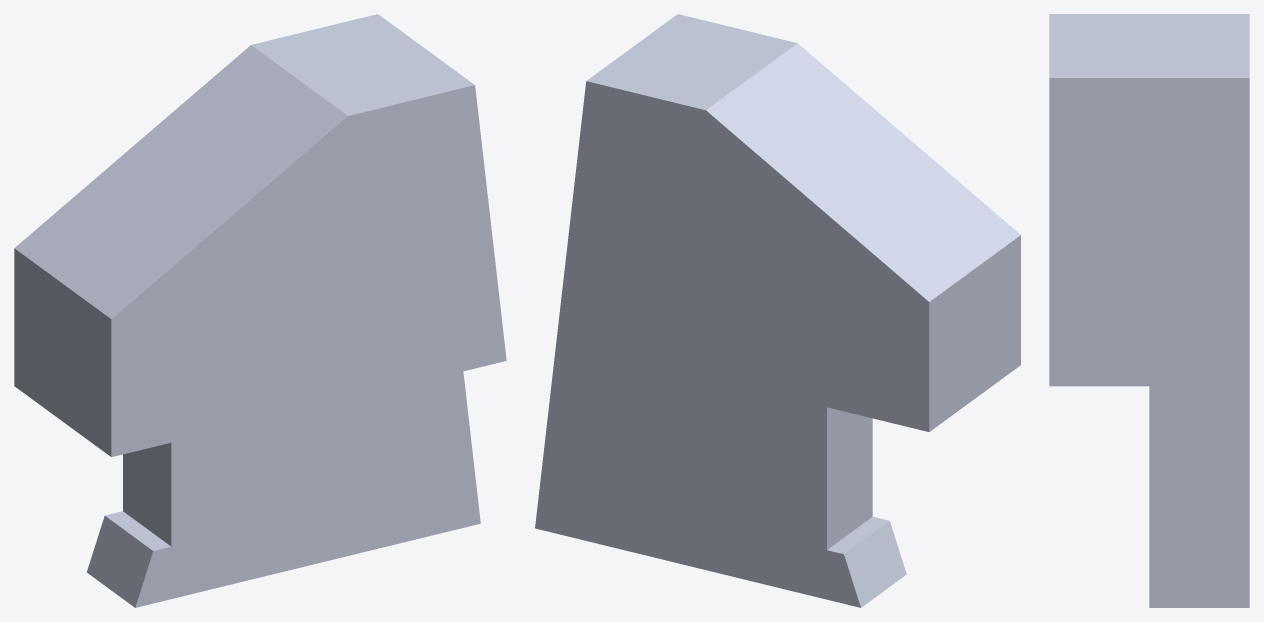
3 views of the same model, side by side, from view 1: azimuth 30°, elevation 25°; view 2: azimuth 150°, elevation 25°; view 3: azimuth 270°, elevation 25° (orthographic). The views are drawn at different scales.
Visible parts, largest first — view 1: object_049; view 2: object_049; view 3: object_049.
Boxes of the visible parts, x1,y1,x2,y2 form: object_049: (14,14,506,607); object_049: (535,14,1020,607); object_049: (1049,14,1249,607).
Bounding box in the file's own units: 0.298 × 0.3321 × 0.12.
